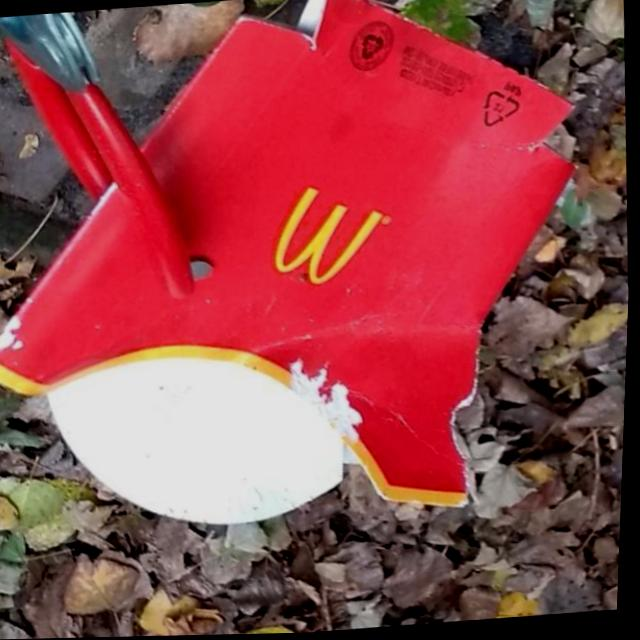Paper: (0, 0, 606, 546)
